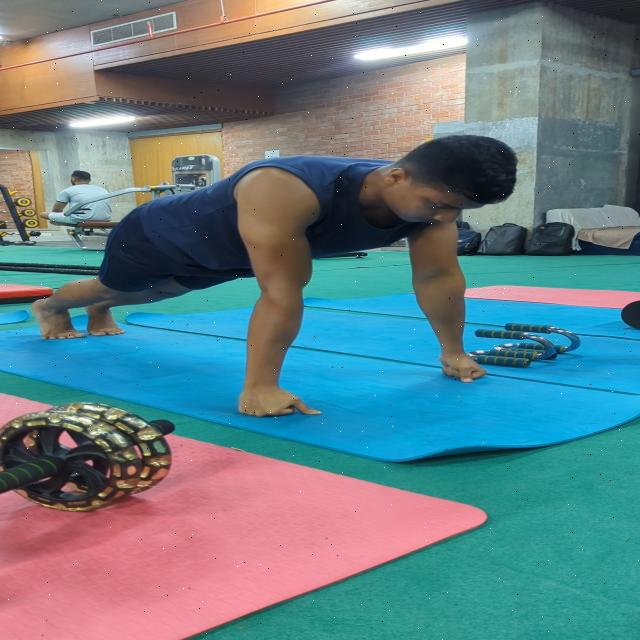Normal_PushUps: (24, 132, 533, 422)
